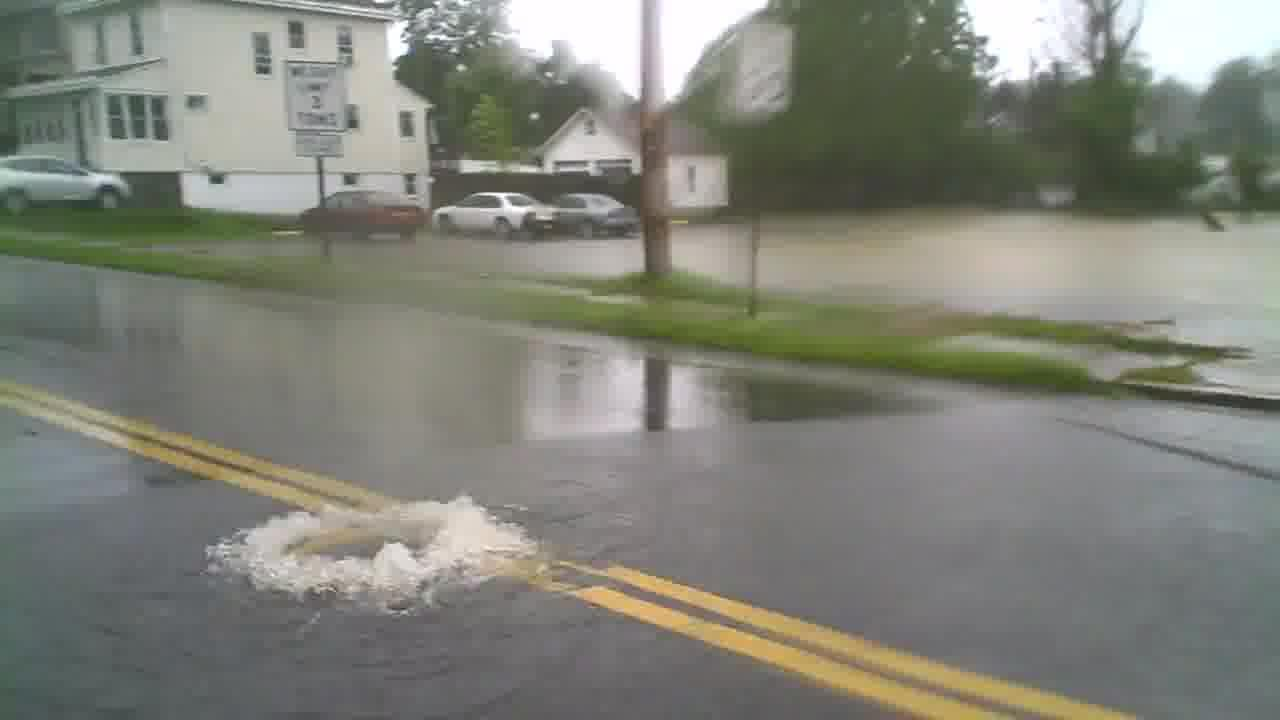drainage_overflow: (222, 472, 542, 633)
